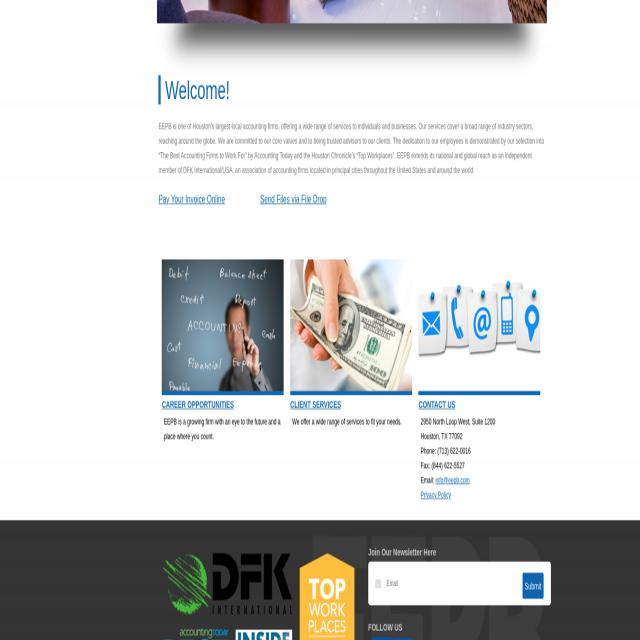button: (162, 260, 284, 394), (290, 260, 412, 394), (418, 260, 540, 394), (160, 538, 292, 620), (157, 0, 547, 24), (298, 553, 355, 640), (177, 624, 231, 640), (235, 627, 293, 640), (522, 574, 544, 598)
field: (368, 561, 551, 607)
